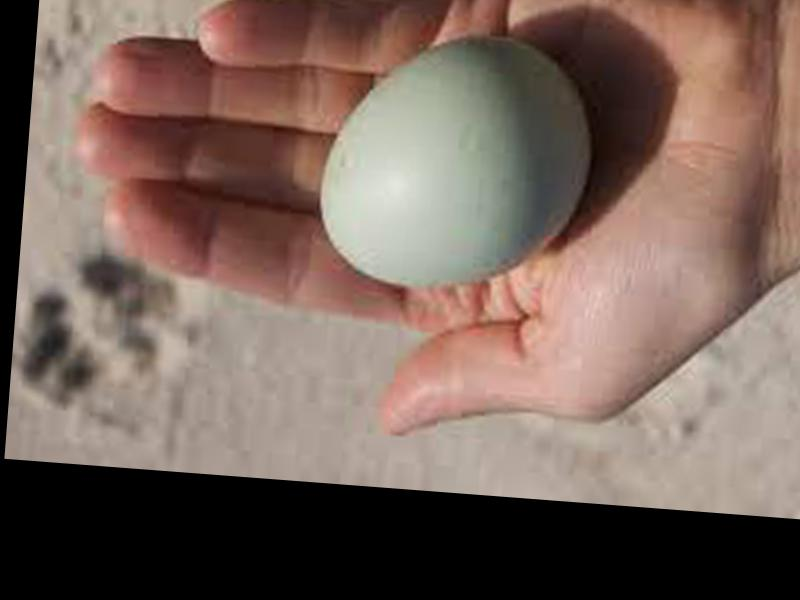Eggs: (311, 26, 593, 296)
